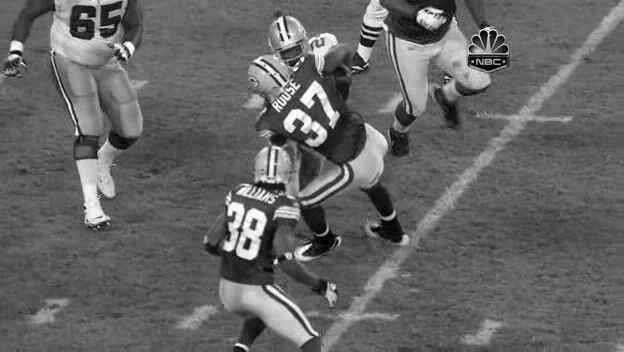person: (273, 25, 308, 70), (272, 25, 307, 70), (274, 25, 309, 70), (273, 24, 308, 69), (273, 26, 308, 71)
target_negative: (82, 2, 510, 168), (41, 285, 585, 326), (497, 194, 623, 251), (178, 280, 446, 306), (423, 183, 469, 310), (466, 131, 515, 166)
